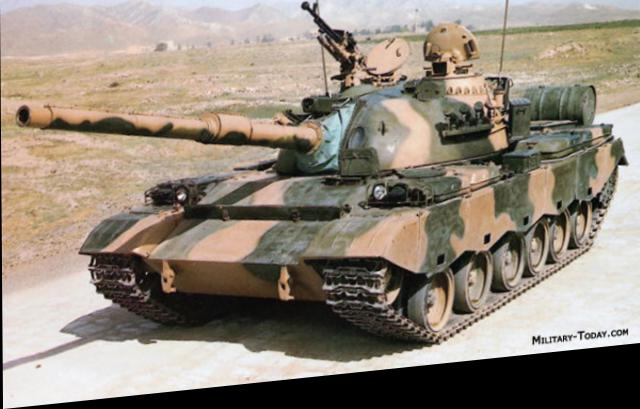tank: (88, 30, 621, 351)
